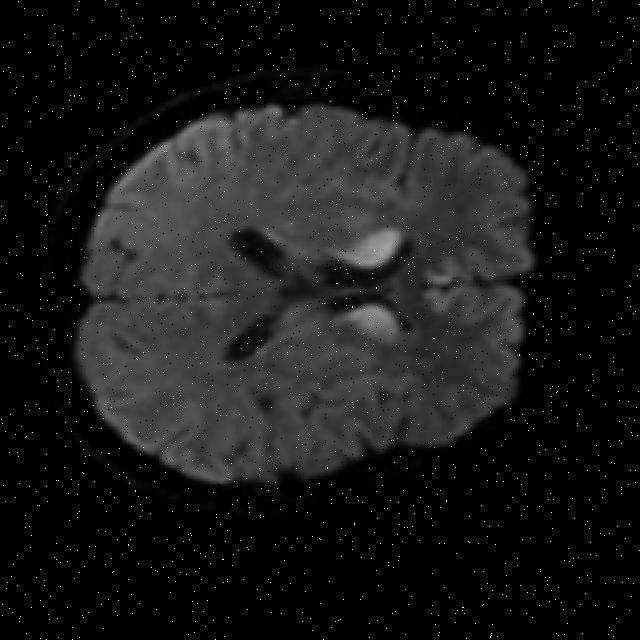NoTumor: (67, 82, 546, 509)
